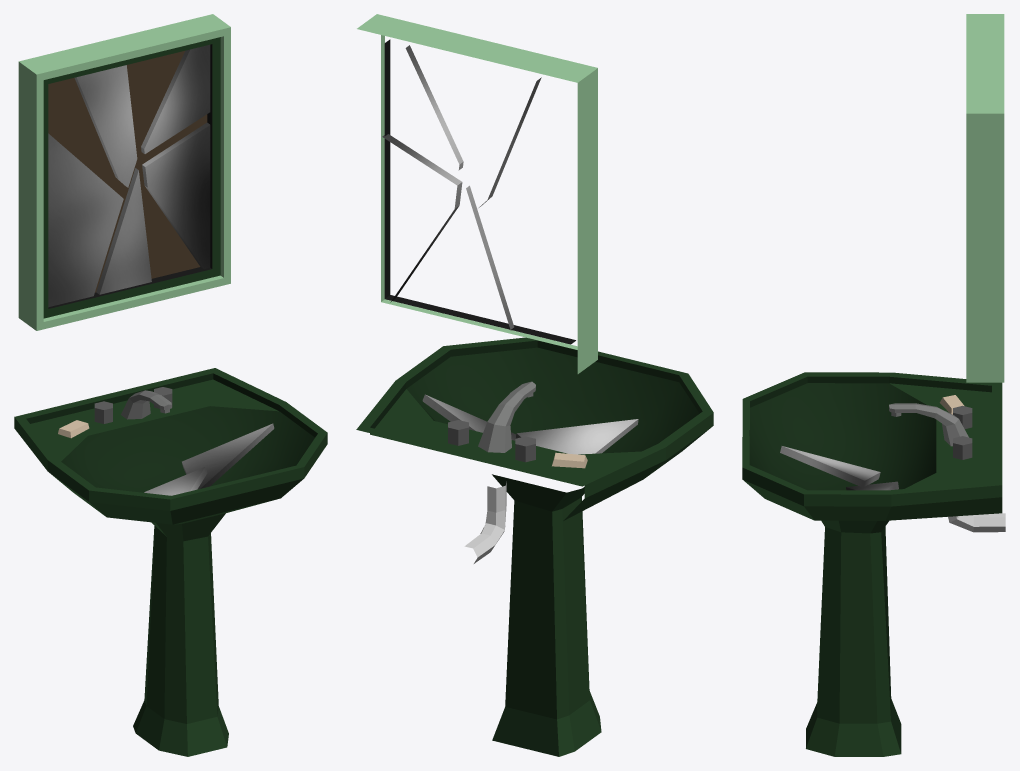
The model's file is PoorBathSink 1.glb.
3 views of the same model, side by side, from view 1: azimuth 30°, elevation 25°; view 2: azimuth 150°, elevation 25°; view 3: azimuth 270°, elevation 25° (orthographic). The views are drawn at different scales.
Visible parts, largest first — view 1: Cube, Cube.001; view 2: Cube, Cube.001; view 3: Cube, Cube.001.
Part boxes in pixels (x1,y1,x2,y2): Cube: [14, 14, 327, 756]; Cube.001: [48, 44, 274, 495]; Cube: [356, 14, 713, 756]; Cube.001: [382, 45, 638, 454]; Cube: [742, 14, 1005, 756]; Cube.001: [780, 446, 898, 490].
Bounding box in the file's own units: 0.7344 × 1.9 × 0.6684.
Materials: 2 (2 with a texture image).
